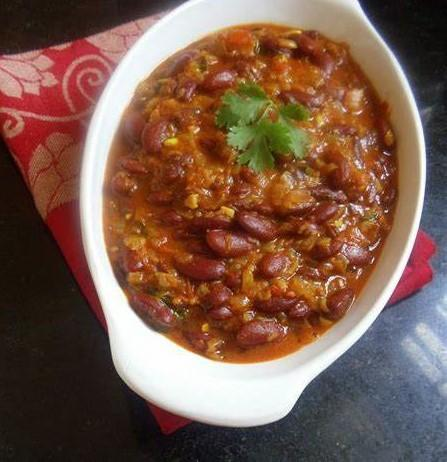RajmaCurry: (102, 22, 394, 364)
